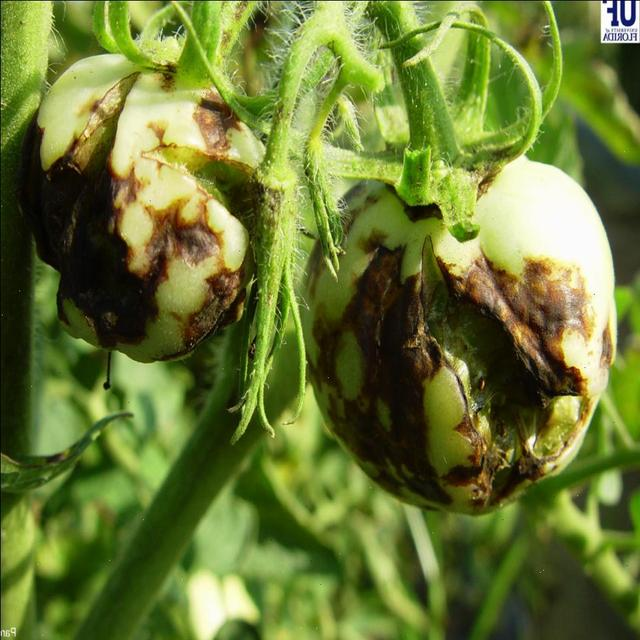Spotted wilt Virus Fruit: (95, 138, 305, 247)
